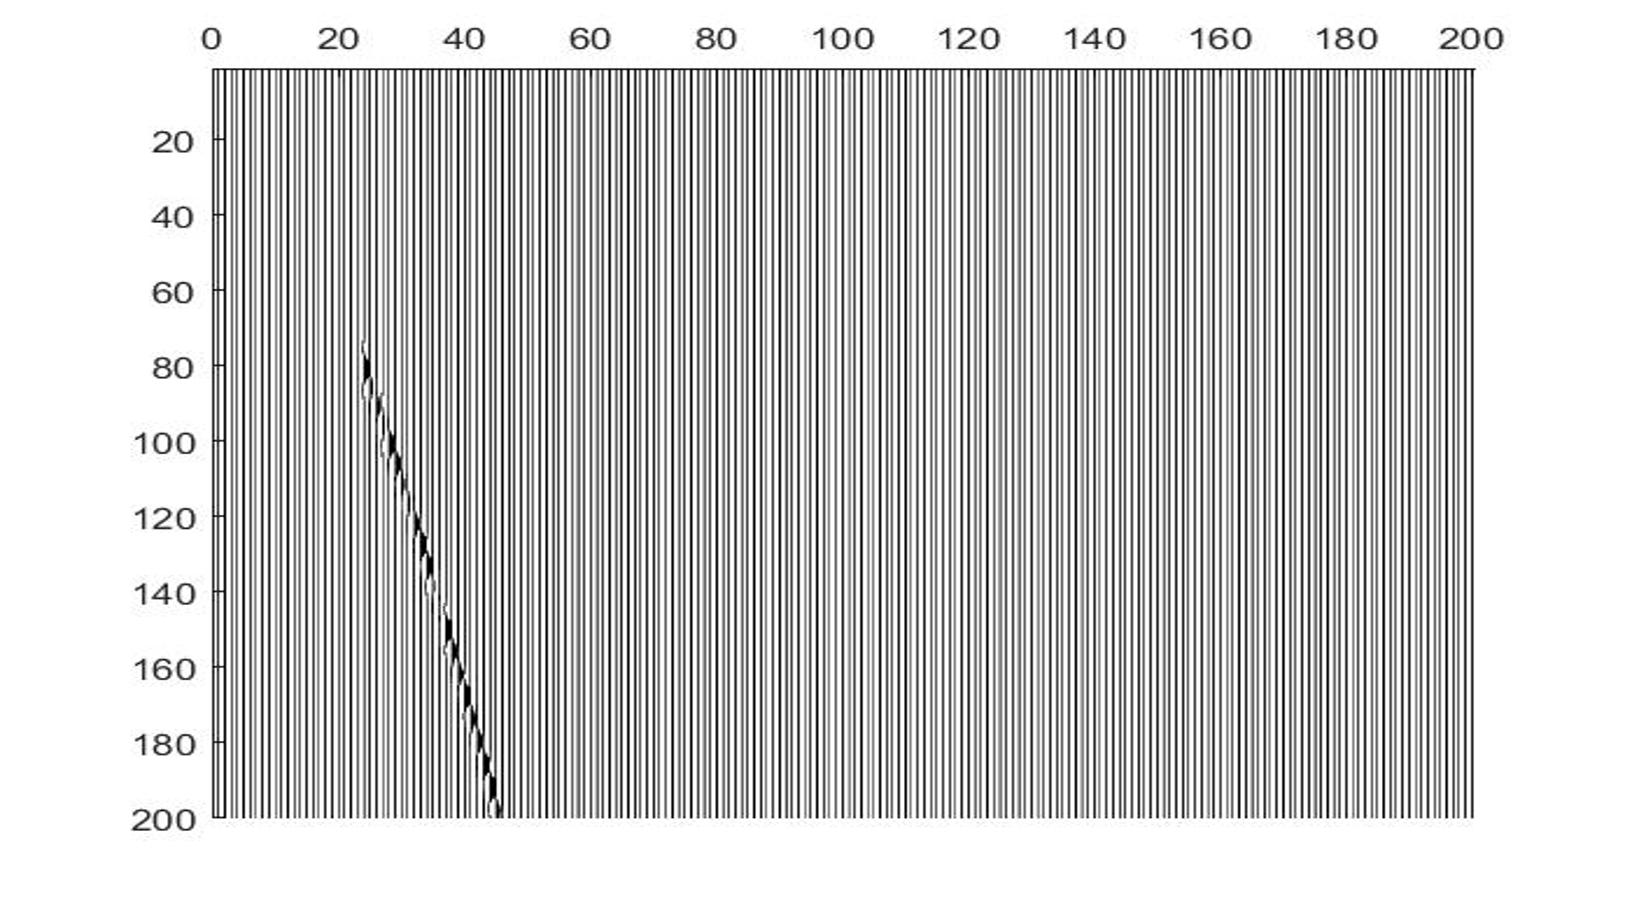signal: (349, 340, 506, 820)
